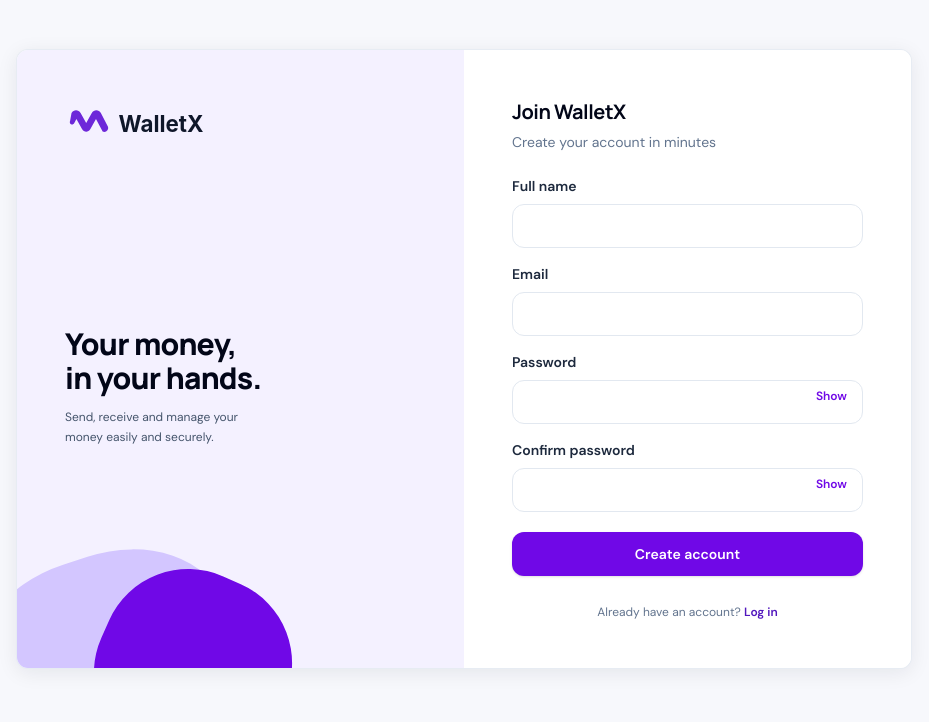
RegisterPage › shows a simulated registration error without leaving the page
Type "Kiran" into the field labelled "Full name" at (688, 226), box left=512, top=204, right=863, bottom=248
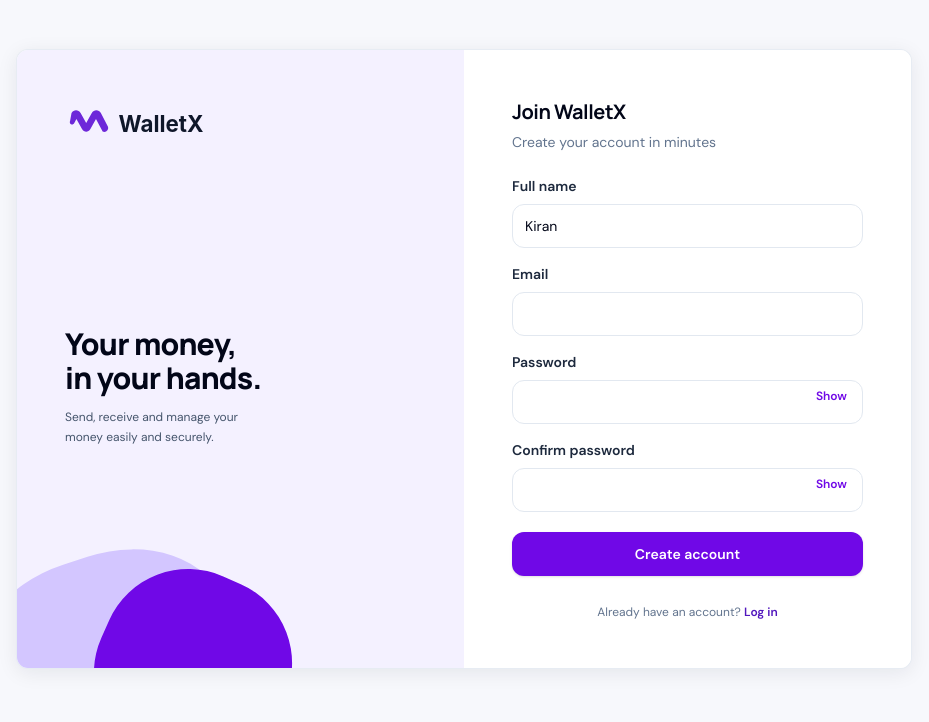
Type "error@example.com" into the field labelled "Email" at (688, 314), box left=512, top=292, right=863, bottom=336
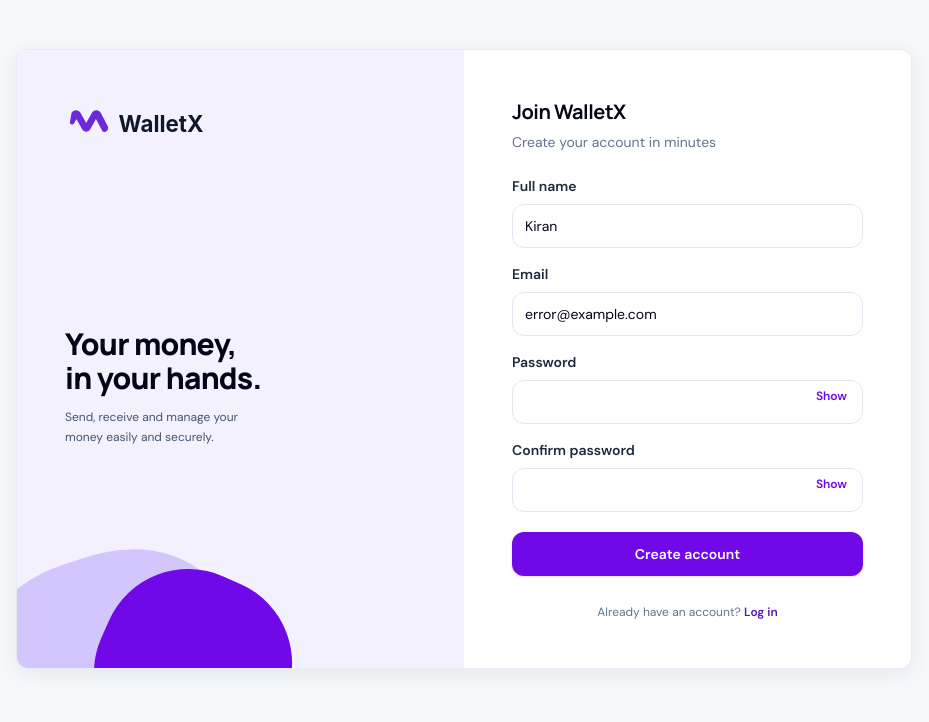
Type "password" into the password field labelled "Password" at (688, 402), box left=512, top=380, right=863, bottom=424
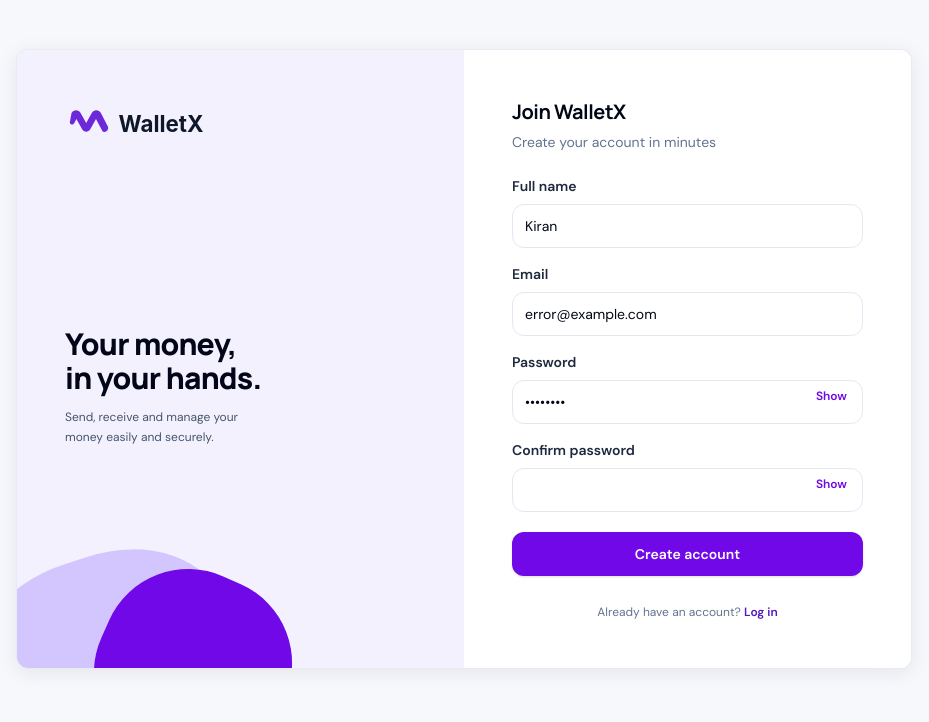
Type "password" into the password field labelled "Confirm password" at (688, 490), box left=512, top=468, right=863, bottom=512
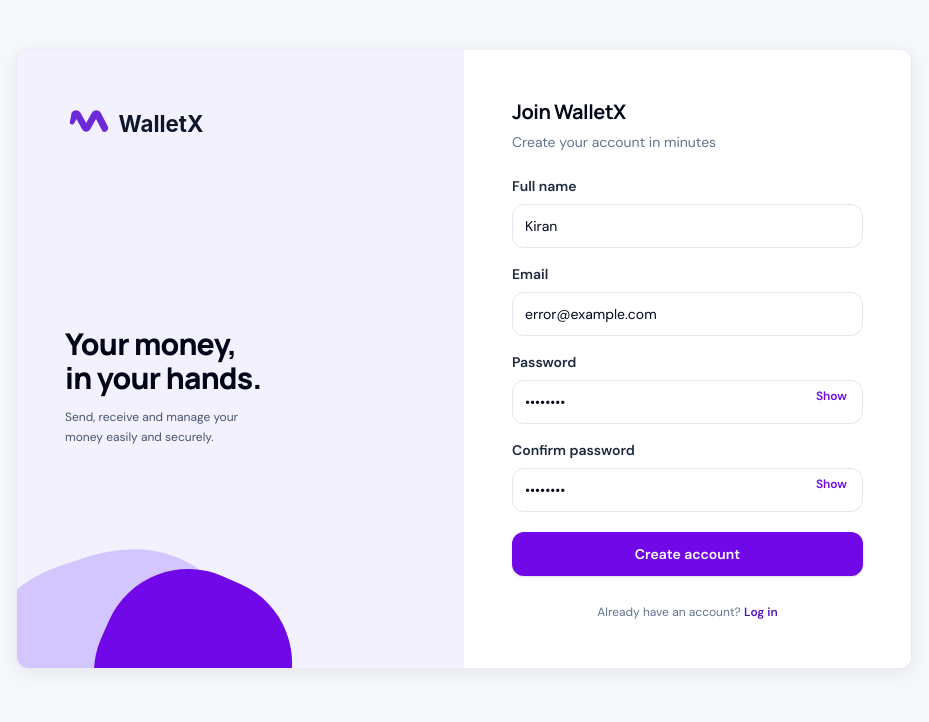
Click the button "Create account" at (688, 554), box left=512, top=532, right=863, bottom=576
Wait 500 ms
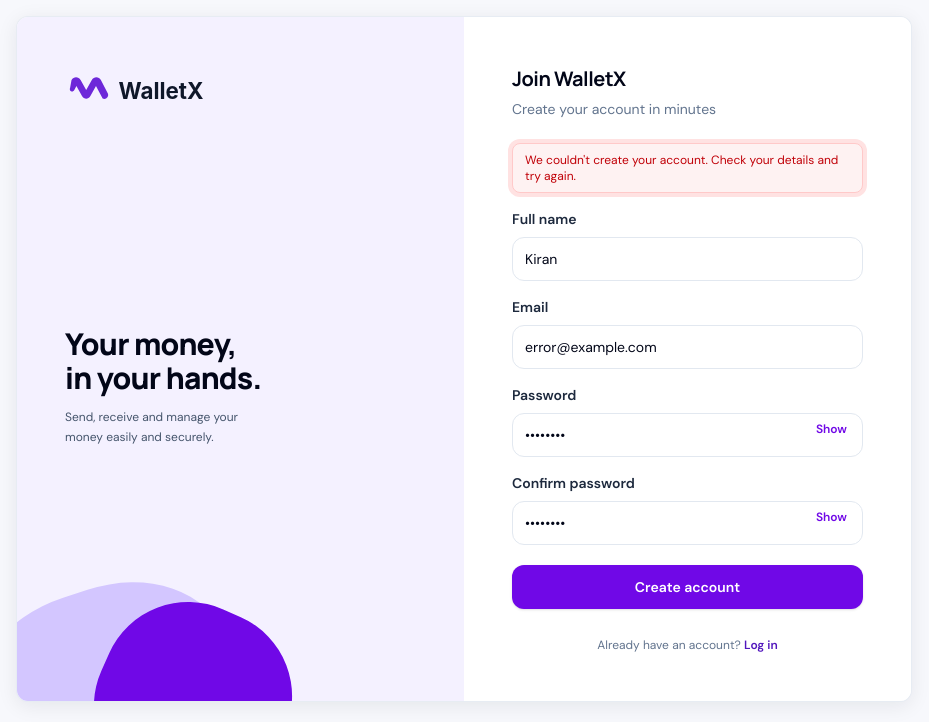
Expected: the message shows "We couldn't create your account", left=525, top=152, right=838, bottom=184
